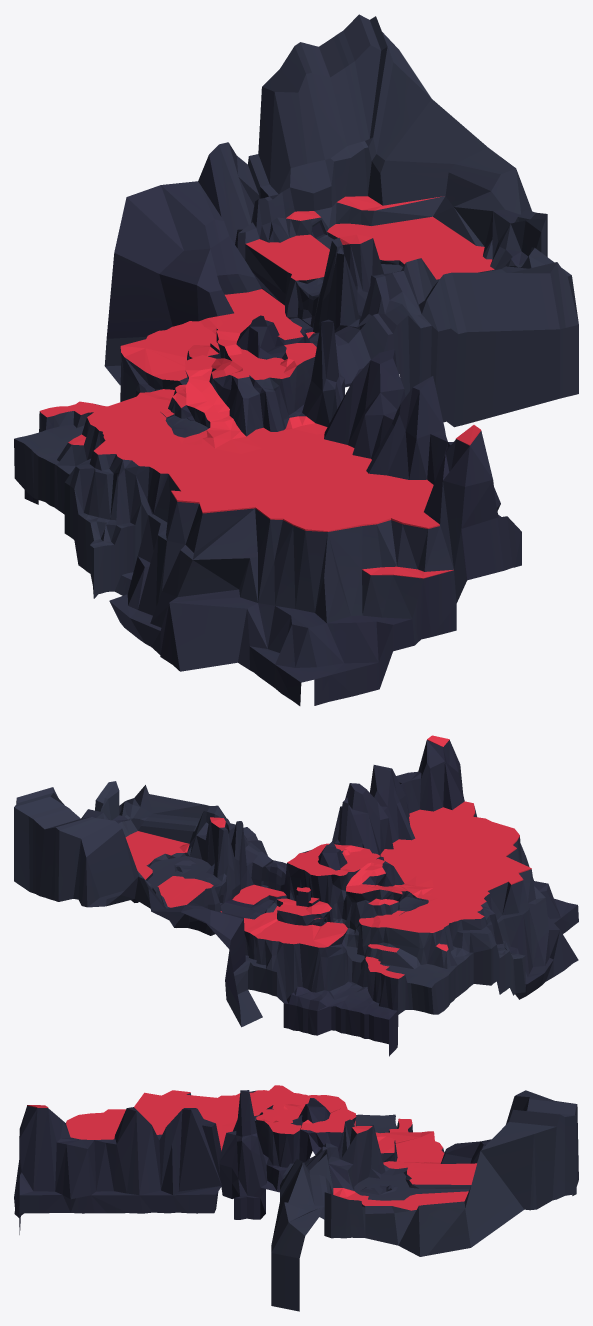
File: Terrain_GroundTest.fbx
3 renders of one model, top to bottom at view 1: azimuth 30°, elevation 25°; view 2: azimuth 150°, elevation 25°; view 3: azimuth 270°, elevation 25°, orthographic. The views are drawn at different scales.
Parts seen in each view (by area): view 1: Mountains.002; view 2: Mountains.002; view 3: Mountains.002.
Part boxes in pixels (bbox=[...]): Mountains.002: bbox=[14, 14, 578, 705]; Mountains.002: bbox=[14, 735, 578, 1056]; Mountains.002: bbox=[14, 1085, 578, 1311].
Bounding box in the file's own units: 24881 × 13953 × 28240.
